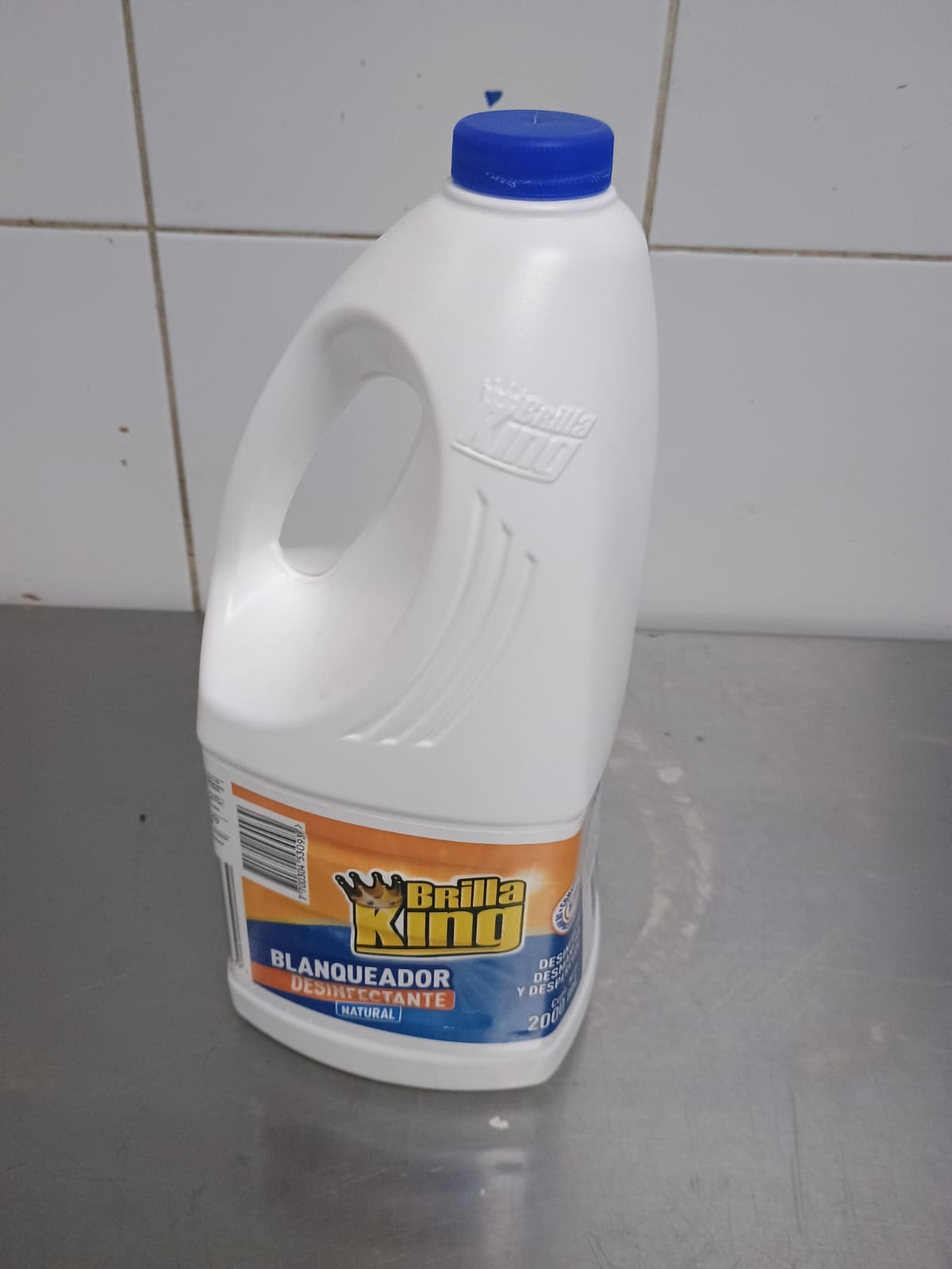Plastico: (198, 110, 660, 1092)
